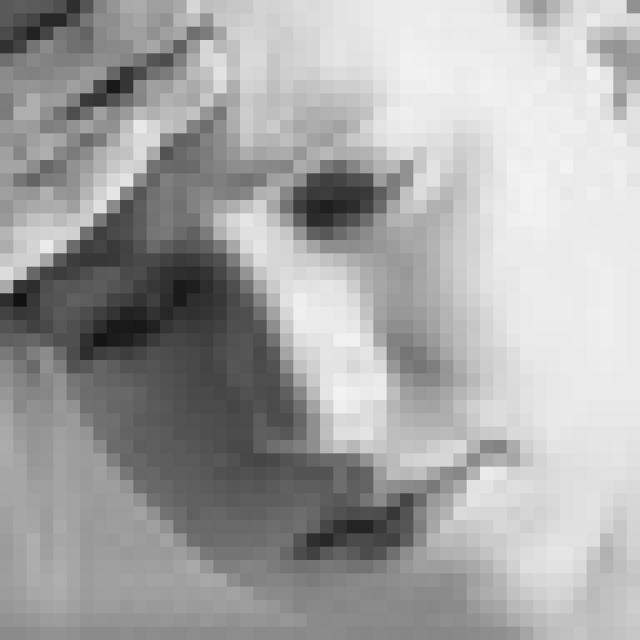sad: (42, 90, 535, 596)
